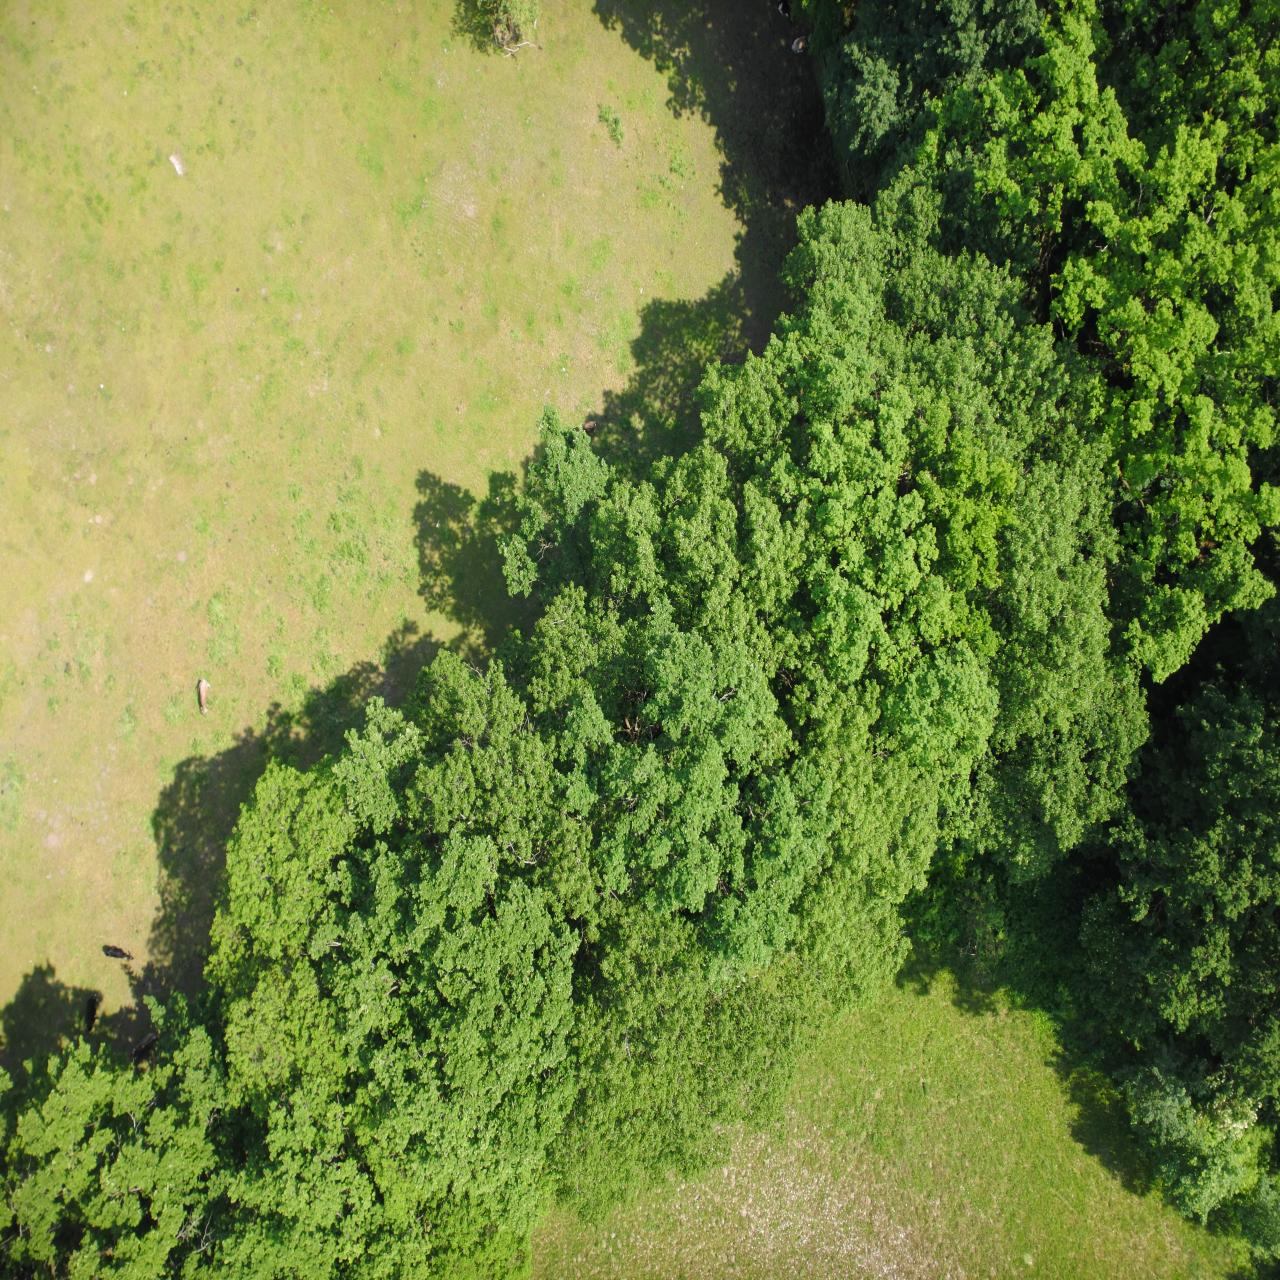cow: (1070, 565, 1082, 600), (1146, 319, 1173, 334)
